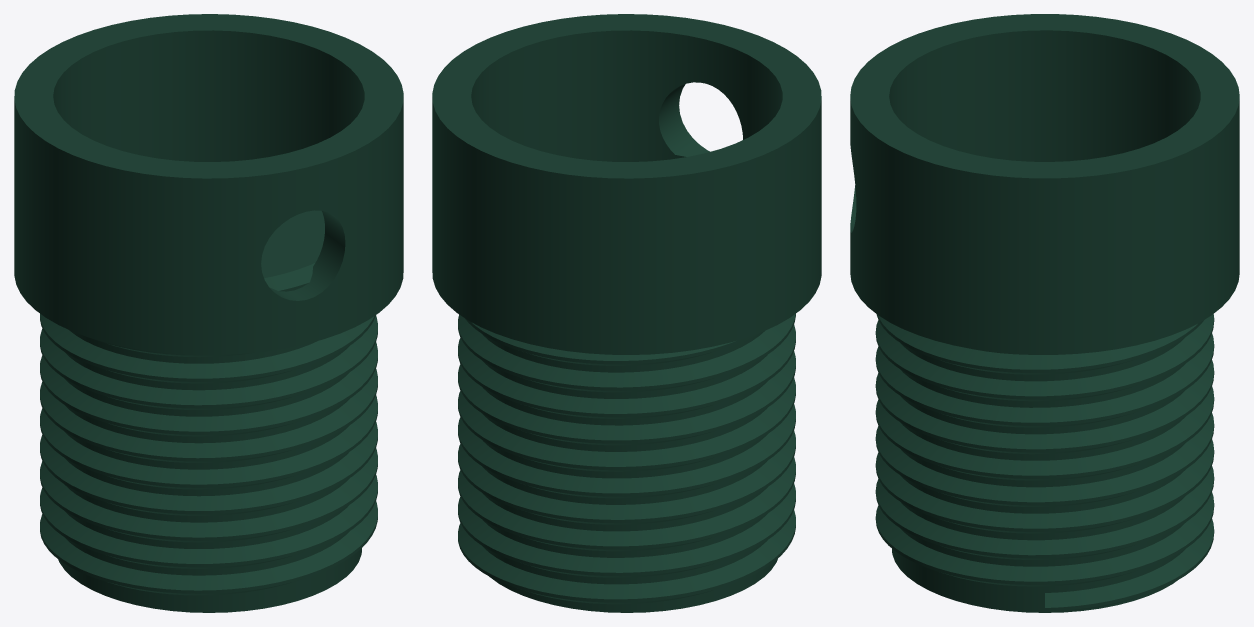
File: body3_visual.obj
3 renders of one model, left to right at view 1: azimuth 30°, elevation 25°; view 2: azimuth 150°, elevation 25°; view 3: azimuth 270°, elevation 25°, orthographic.
Parts seen in each view (by area): view 1: Body3; view 2: Body3; view 3: Body3.
Boxes of the visible parts, left/top/right/bottom form: Body3: left=14, top=14, right=403, bottom=612; Body3: left=432, top=14, right=821, bottom=612; Body3: left=850, top=14, right=1239, bottom=612.
Size of the model in its own units: 2 by 2.56 by 2.
